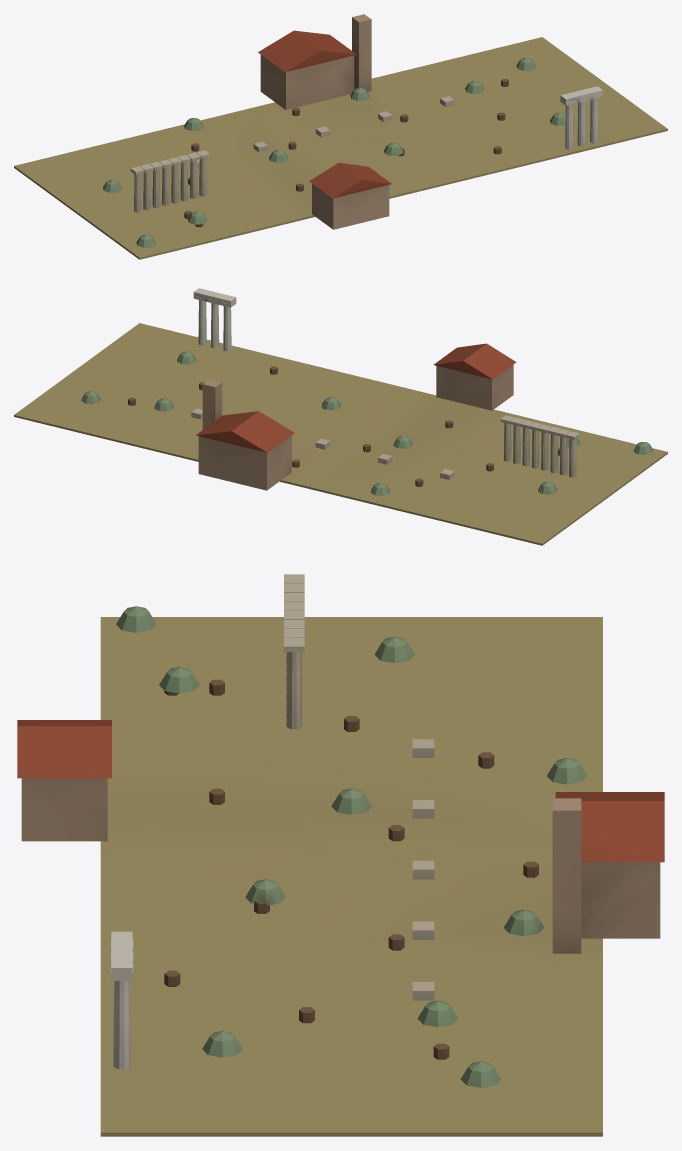
Rendered from roman-forum-medieval.glb.
The picture shows the model from 3 angles, top to bottom: view 1: azimuth 30°, elevation 25°; view 2: azimuth 150°, elevation 25°; view 3: azimuth 270°, elevation 25°; orthographic projection. The views are drawn at different scales.
Parts seen in each view (by area): view 1: p0_field, p2_churches, p1_ruins; view 2: p0_field, p2_churches, p1_ruins; view 3: p0_field, p2_churches, p1_ruins.
Boxes of the visible parts, x1,y1,x2,y2 form: p0_field: (14, 37, 667, 259); p2_churches: (103, 14, 565, 247); p1_ruins: (130, 86, 602, 212); p0_field: (14, 323, 667, 545); p2_churches: (81, 343, 653, 495); p1_ruins: (191, 288, 579, 479); p0_field: (100, 617, 602, 1136); p2_churches: (17, 606, 664, 1087); p1_ruins: (111, 574, 434, 1069).
Size of the model in its own units: 170 by 22.6 by 90.2.
